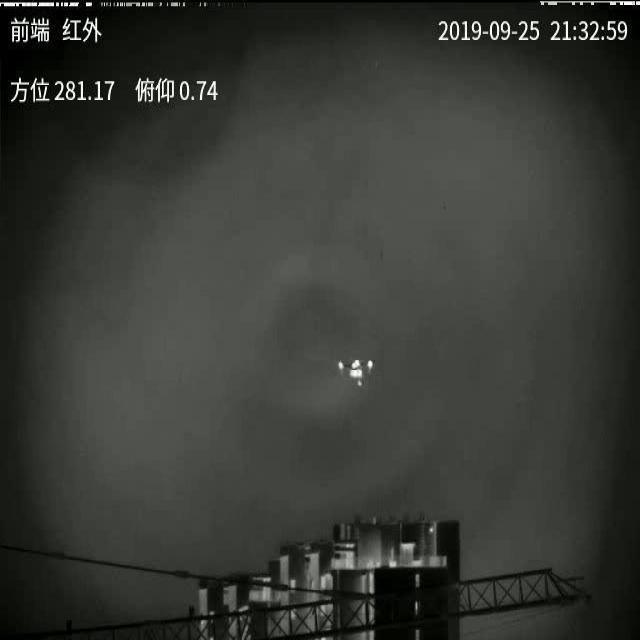drone: (336, 356, 381, 392)
